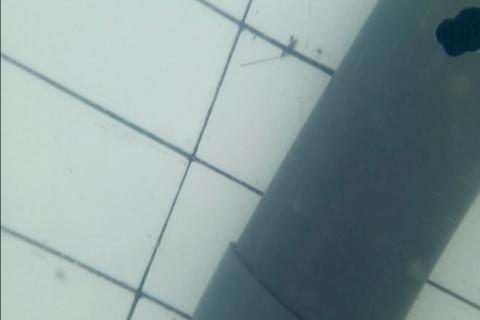kebocoran: (434, 4, 479, 59)
